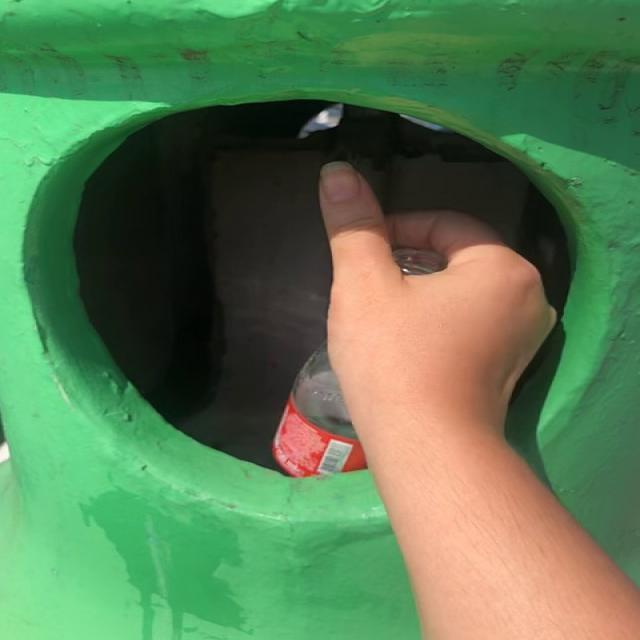Glass: (272, 344, 367, 478), (393, 249, 447, 274)
